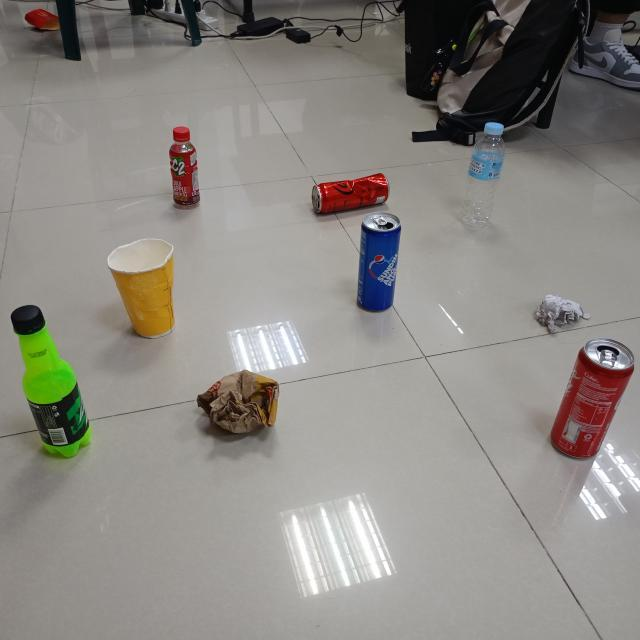recyclable waste: (5, 298, 96, 464), (544, 330, 640, 466), (100, 232, 186, 343), (190, 362, 285, 440), (456, 112, 510, 234), (352, 208, 405, 316), (306, 168, 394, 218), (166, 122, 205, 212), (530, 288, 594, 338)
